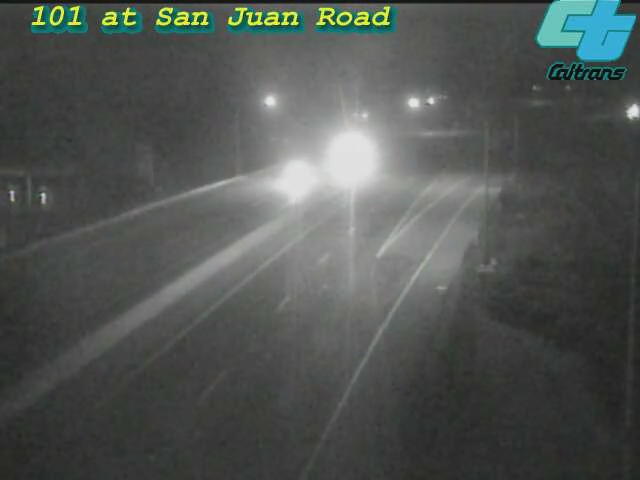vehicle: (254, 135, 334, 215), (303, 121, 383, 201), (605, 90, 640, 140)
